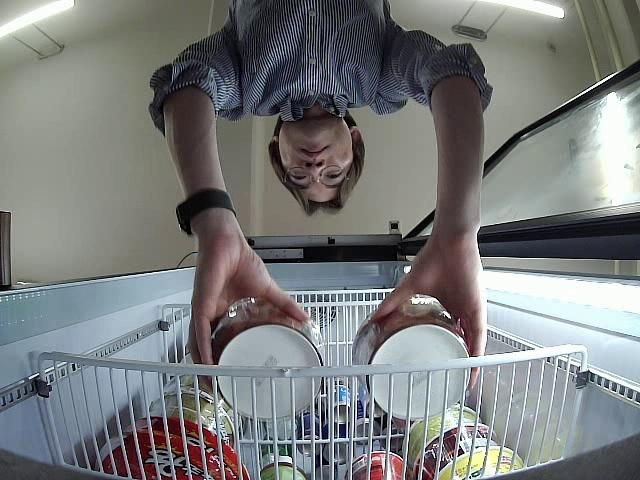00_hand: (188, 239, 312, 389), (369, 248, 489, 389)
05_nuguri_L: (349, 302, 470, 421), (213, 296, 321, 415)
